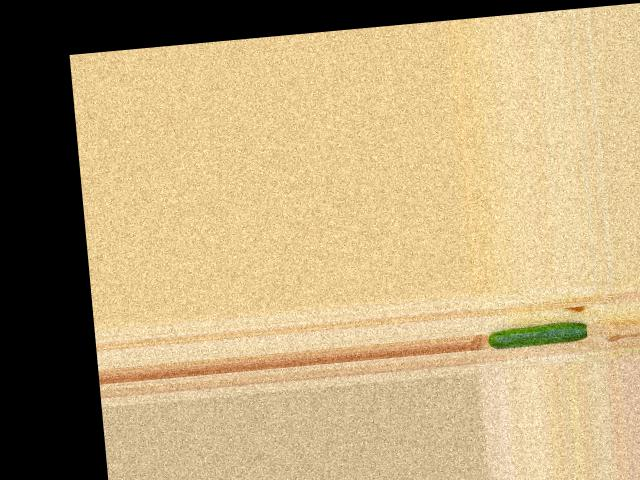cucumber: (487, 321, 587, 349)
